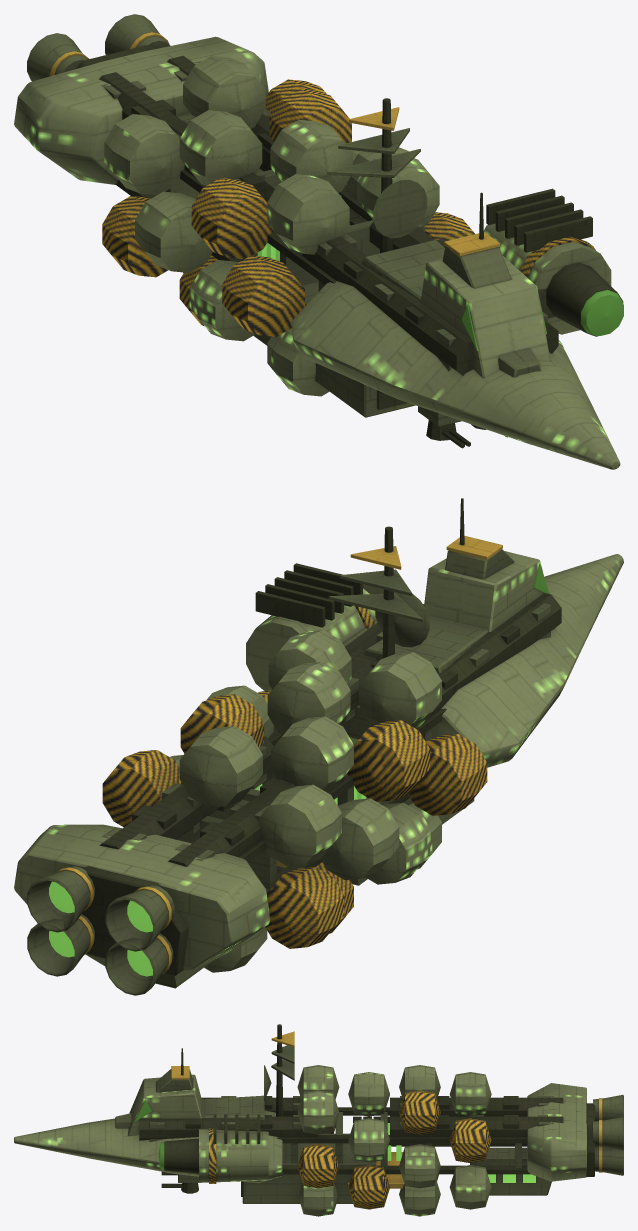
File: krell_carrier.glb
3 renders of one model, top to bottom at view 1: azimuth 30°, elevation 25°; view 2: azimuth 150°, elevation 25°; view 3: azimuth 270°, elevation 25°, orthographic. The views are drawn at different scales.
Visible parts, largest first — view 1: HULL, SYS_WPN1, SYS_BRIDGE, SYS_BUS_F, SYS_SENSORS, SYS_DRIVE, SYS_BUS_A, SYS_HANGAR, SYS_PD; view 2: HULL, SYS_DRIVE, SYS_WPN1, SYS_BRIDGE, SYS_BUS_A, SYS_BUS_F, SYS_SENSORS; view 3: HULL, SYS_WPN1, SYS_BUS_A, SYS_BUS_F, SYS_BRIDGE, SYS_HANGAR, SYS_DRIVE, SYS_JUMP, SYS_SENSORS, SYS_REACTOR, SYS_PD.
Boxes of the visible parts, box(x1,y1,x2,y2) form: HULL: box(14, 36, 620, 469); SYS_WPN1: box(483, 188, 623, 336); SYS_BRIDGE: box(420, 192, 550, 377); SYS_BUS_F: box(302, 222, 558, 375); SYS_SENSORS: box(327, 98, 427, 253); SYS_DRIVE: box(27, 14, 170, 81); SYS_BUS_A: box(99, 55, 274, 202); SYS_HANGAR: box(253, 281, 415, 417); SYS_PD: box(418, 406, 507, 448); HULL: box(14, 554, 623, 972); SYS_DRIVE: box(27, 866, 188, 995); SYS_WPN1: box(246, 563, 383, 690); SYS_BRIDGE: box(424, 498, 549, 632); SYS_BUS_A: box(100, 736, 344, 866); SYS_BUS_F: box(342, 593, 561, 726); SYS_SENSORS: box(328, 526, 429, 658); HULL: box(14, 1065, 586, 1216); SYS_WPN1: box(158, 1114, 268, 1183); SYS_BUS_A: box(390, 1096, 563, 1137); SYS_BUS_F: box(139, 1096, 318, 1141); SYS_BRIDGE: box(127, 1048, 201, 1135); SYS_HANGAR: box(241, 1133, 376, 1203); SYS_DRIVE: box(586, 1095, 623, 1176); SYS_JUMP: box(469, 1147, 551, 1195); SYS_SENSORS: box(264, 1024, 294, 1116); SYS_REACTOR: box(347, 1116, 404, 1188); SYS_PD: box(161, 1171, 198, 1193).
Size of the model in its own units: 17.61 by 19.07 by 57.55.
1 material, 1 textured.
